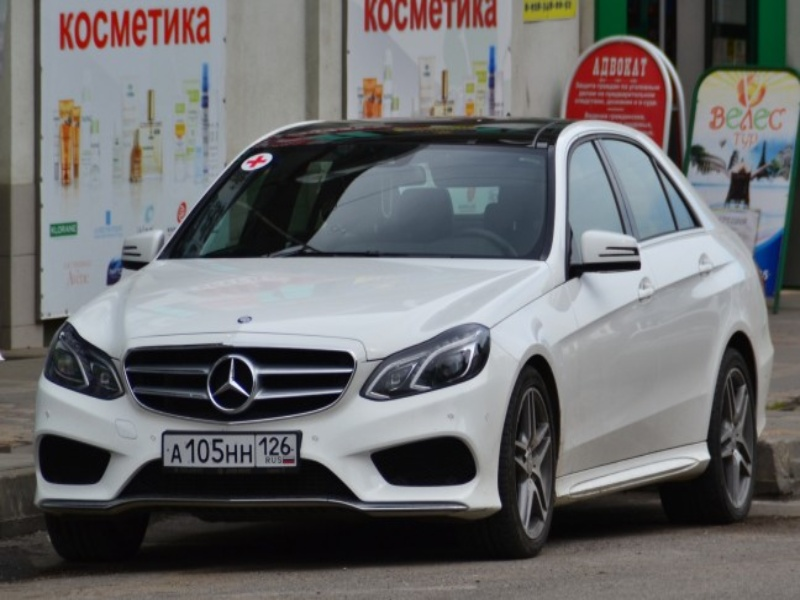car: (34, 116, 774, 556)
plate: (162, 432, 297, 466)
